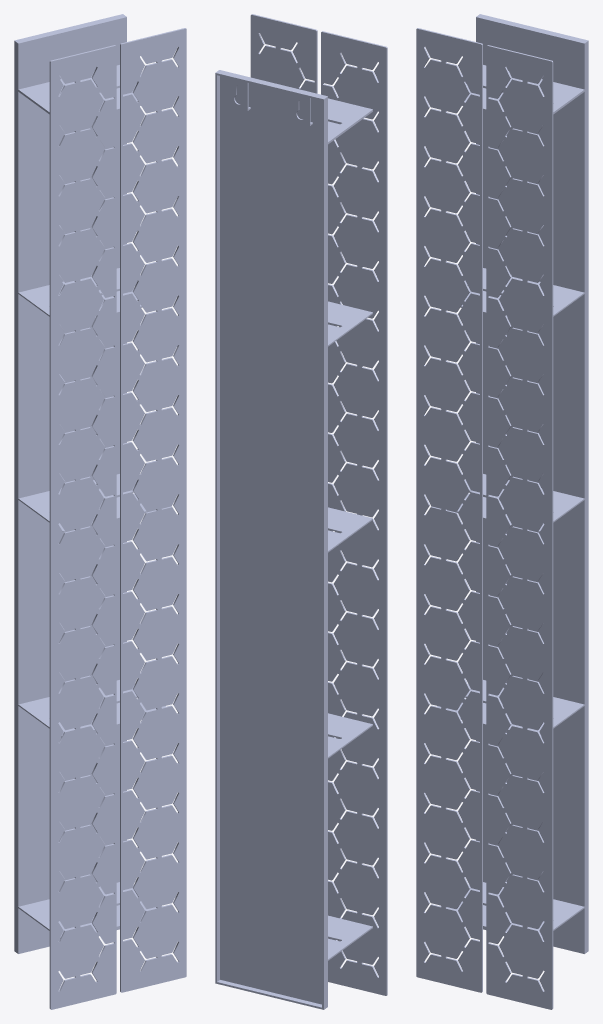
The model's file is bee-prima.63f38e0354.glb.
3 views of the same model, side by side, from view 1: azimuth 30°, elevation 25°; view 2: azimuth 150°, elevation 25°; view 3: azimuth 330°, elevation 25° (orthographic).
Visible parts, largest first — view 1: NAUO1; view 2: NAUO1; view 3: NAUO1.
Part boxes in pixels (x1=…): NAUO1: x1=14, y1=14, x2=186, y2=1009; NAUO1: x1=215, y1=14, x2=387, y2=1009; NAUO1: x1=416, y1=14, x2=588, y2=1009.
Bounding box in the file's own units: 0.15 × 1 × 0.096.
